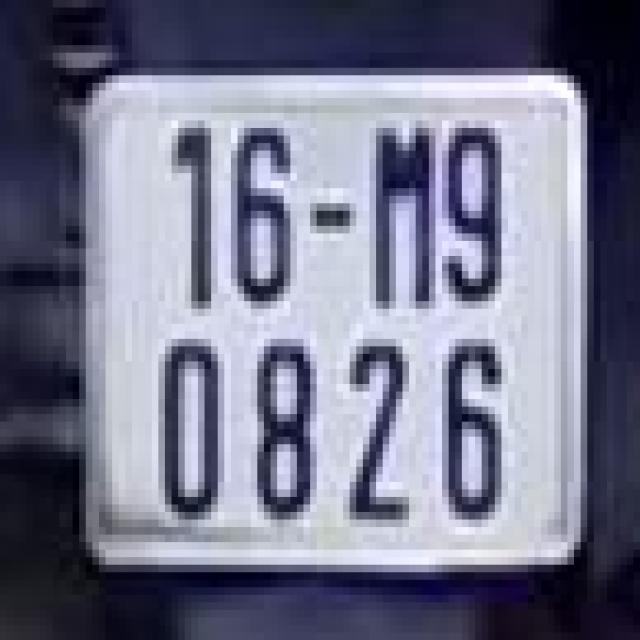0: (142, 331, 228, 527)
1: (158, 116, 218, 312)
2: (340, 331, 419, 527)
6: (432, 335, 512, 523), (231, 117, 303, 320)
8: (247, 335, 320, 531)
9: (446, 113, 512, 316)
M: (363, 109, 442, 320)
